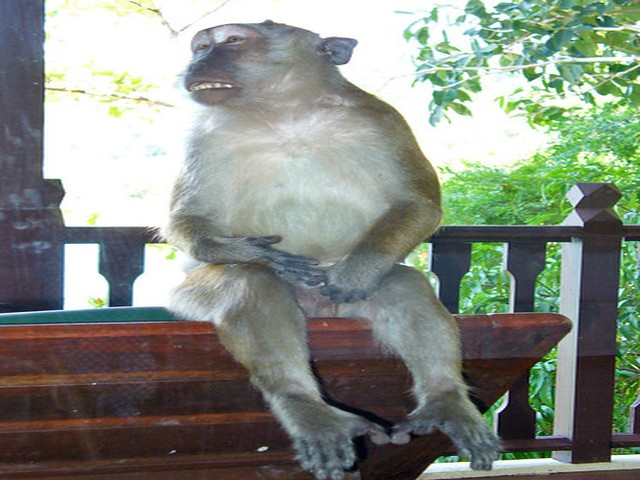Monkey: (162, 16, 522, 474)
